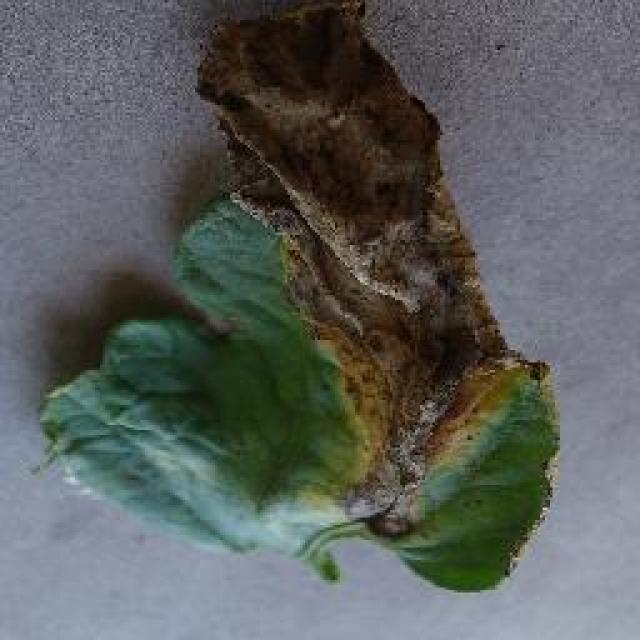Tomato___Early_blight: (37, 0, 565, 595)
